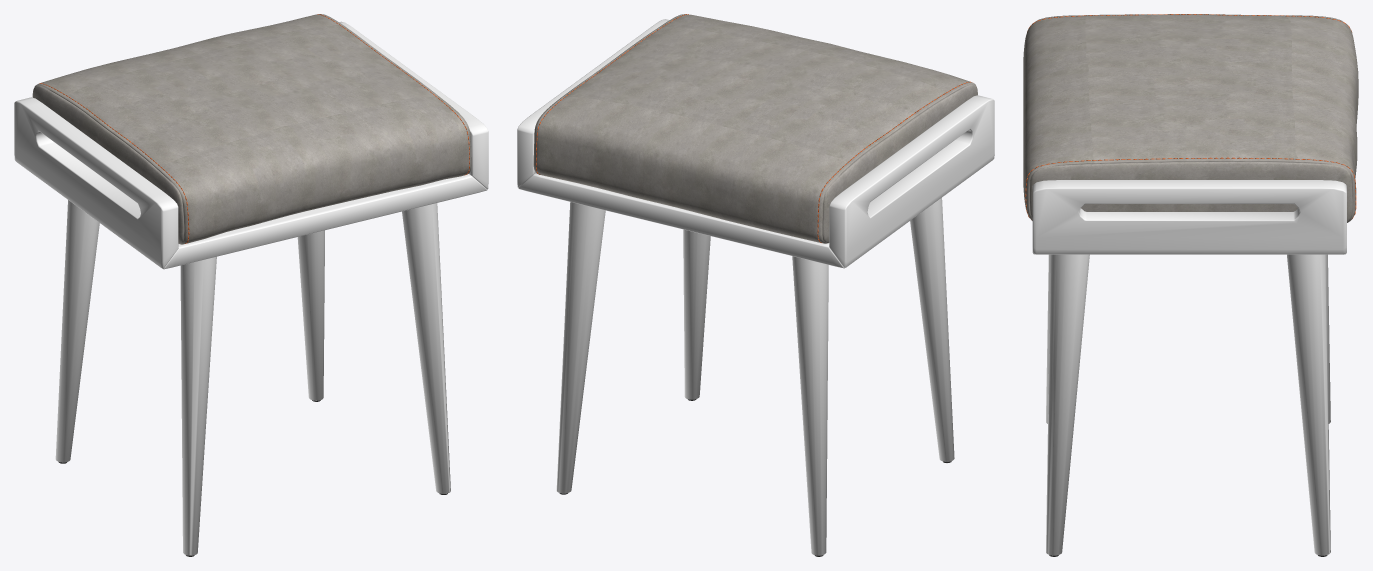
Rendered from movable_pouffe_stool.gltf.
3 renders of one model, left to right at view 1: azimuth 30°, elevation 25°; view 2: azimuth 150°, elevation 25°; view 3: azimuth 270°, elevation 25°, orthographic. The views are drawn at different scales.
Parts seen in each view (by area): view 1: Mov Pouffe Stool; view 2: Mov Pouffe Stool; view 3: Mov Pouffe Stool.
Part boxes in pixels (x1=…): Mov Pouffe Stool: x1=14, y1=14, x2=488, y2=556; Mov Pouffe Stool: x1=517, y1=14, x2=994, y2=556; Mov Pouffe Stool: x1=1023, y1=14, x2=1358, y2=556.
Size of the model in its own units: 0.4034 by 0.4636 by 0.34.
Materials: 4 (2 with a texture image).
